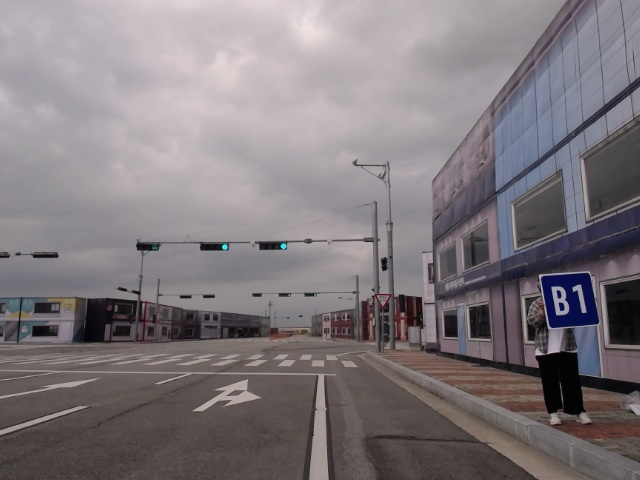delivery_b1: (540, 272, 601, 329)
straight_green_4: (200, 243, 229, 251), (259, 242, 287, 250), (304, 292, 317, 297), (279, 293, 292, 297)
